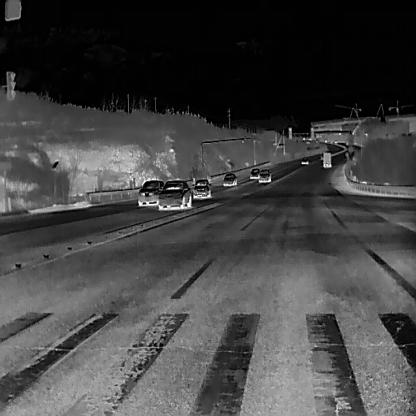car: (156, 178, 192, 210), (136, 179, 164, 207), (191, 178, 211, 198), (257, 168, 271, 183), (222, 172, 236, 186), (249, 167, 259, 179), (300, 156, 309, 164), (324, 138, 327, 142), (314, 139, 318, 142), (334, 139, 336, 143)
truck: (321, 151, 332, 167), (344, 138, 348, 145)
